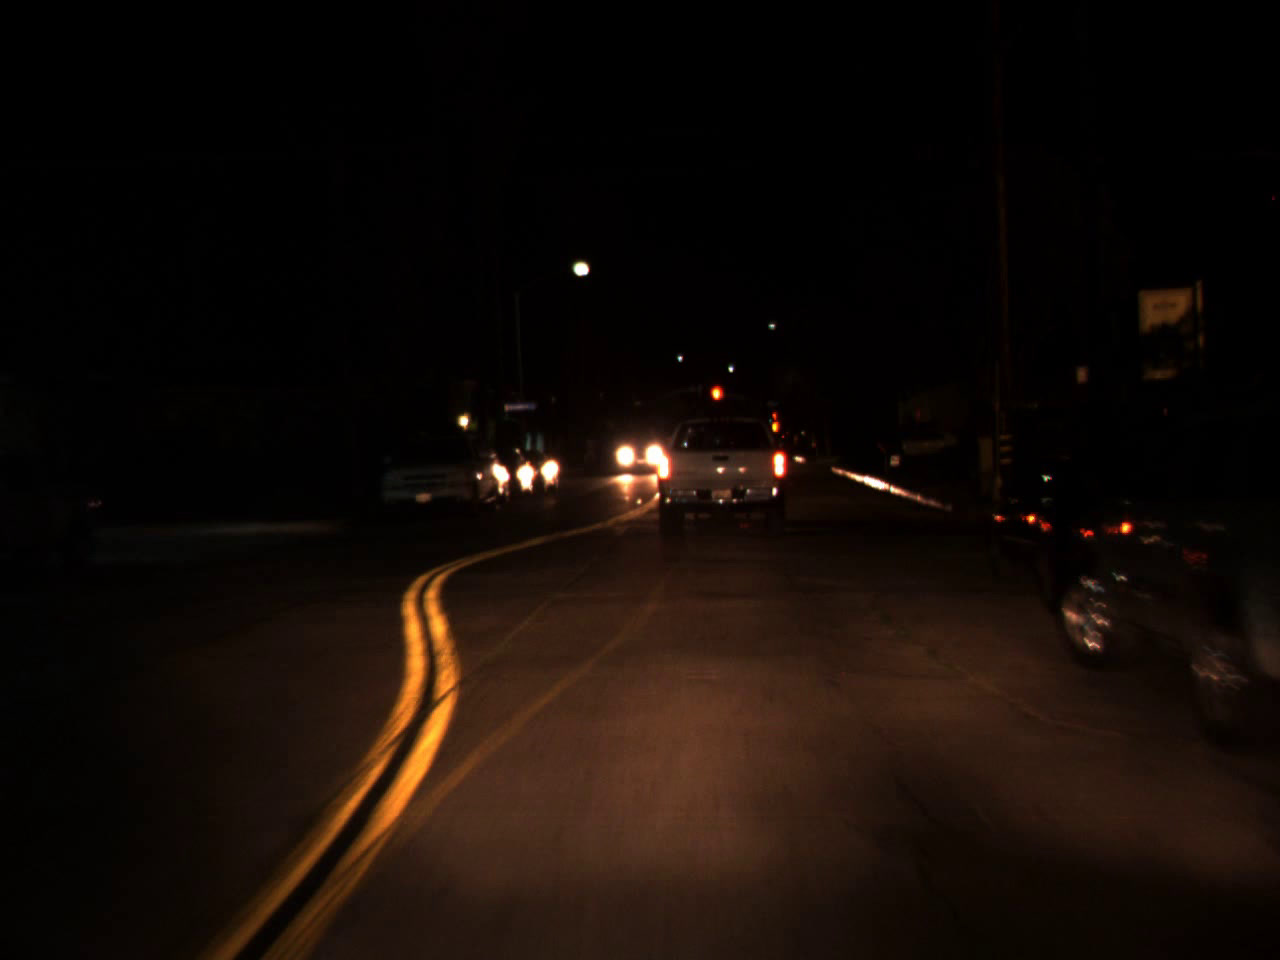stop: (709, 385, 722, 417), (771, 412, 777, 428)
